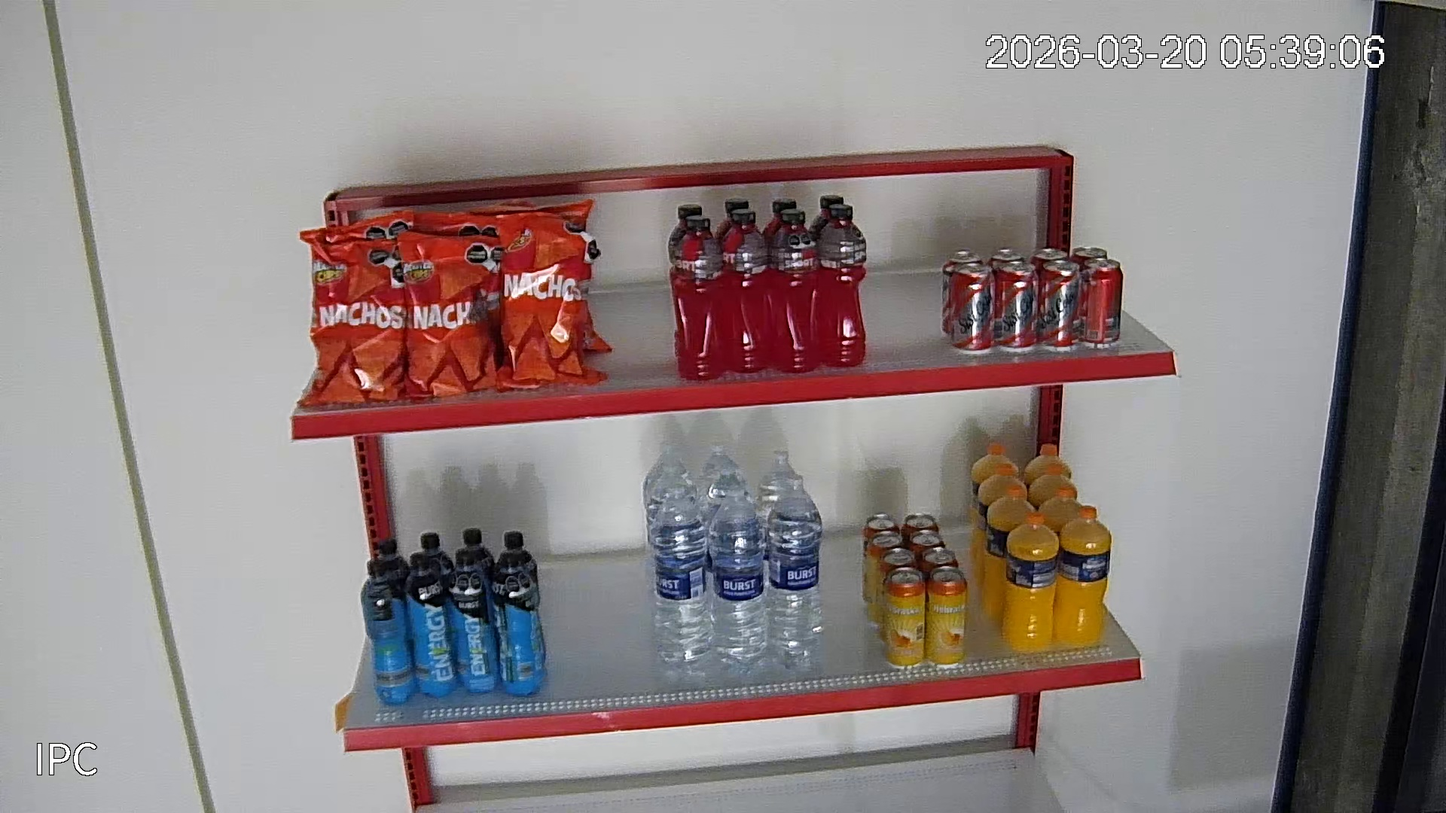agua_burst: (648, 485, 714, 667), (755, 449, 797, 519), (700, 442, 747, 496)
burst_energetica_roja: (811, 204, 867, 368), (721, 208, 771, 374), (669, 204, 702, 305)
burst_energy: (360, 559, 420, 706), (448, 550, 505, 694), (419, 532, 453, 586)
nachos_naturasol: (296, 212, 409, 408), (494, 211, 610, 394), (398, 209, 496, 237)
nebraska_mango: (925, 565, 967, 667), (878, 546, 918, 643), (901, 513, 942, 541)
sisi_cola: (1037, 260, 1082, 353), (950, 263, 995, 354), (990, 249, 1026, 270)
sun_paradise_naranja: (981, 485, 1036, 624), (1025, 443, 1073, 494), (1040, 486, 1081, 539)
